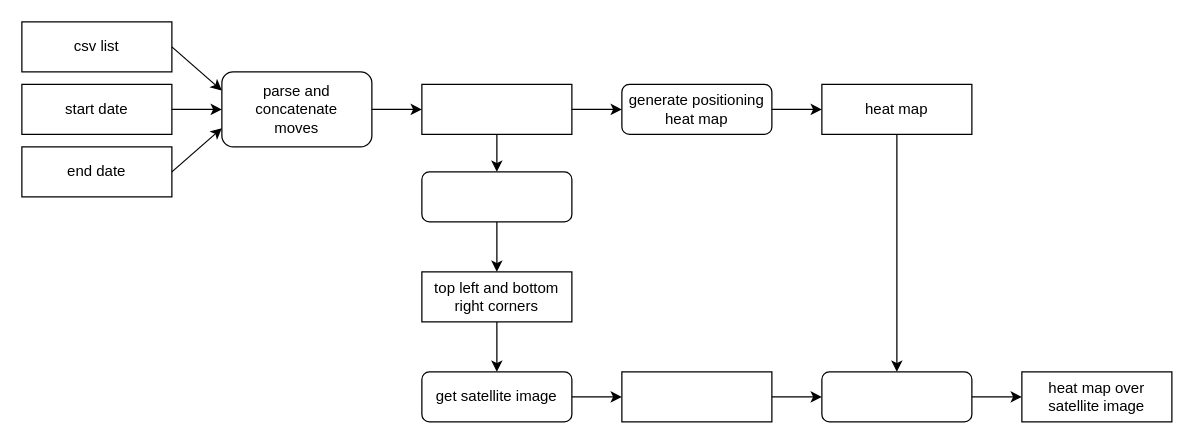
Some shapes in this 1194 by 444 pixel diagram are drawn without their labels. The centre of each missing label's shape, as x and y in pixels:
compute corners: pixel 496 196
draw heat map over satellite image: pixel 896 396
moves table: pixel 496 108
satellite image: pixel 696 396
